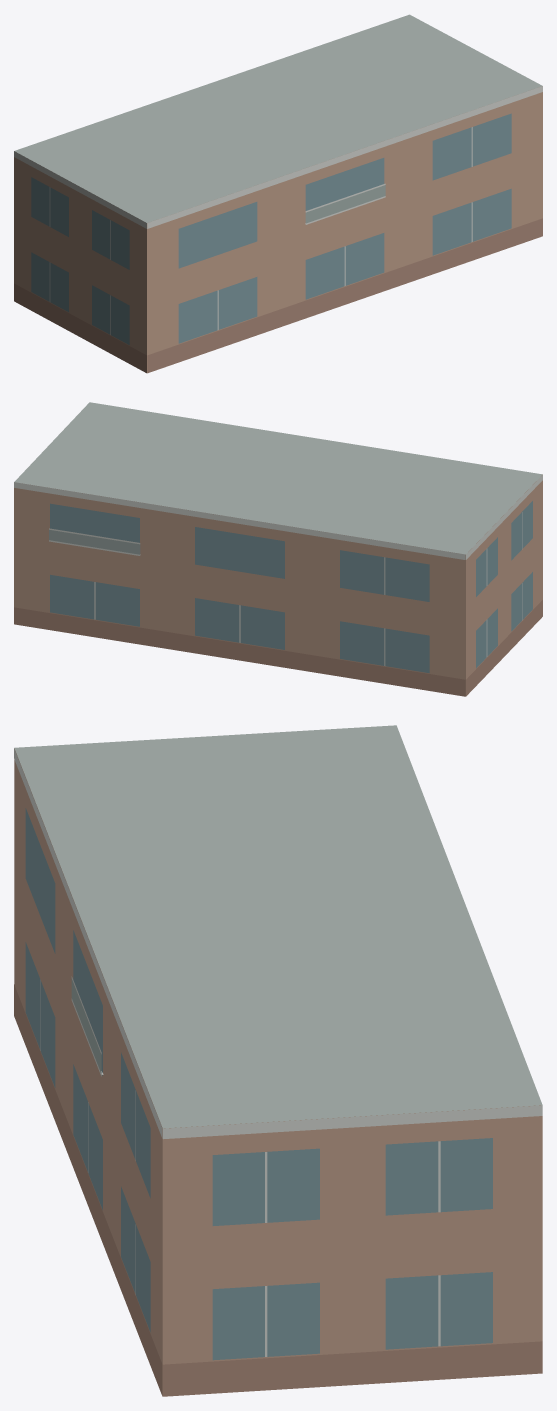
The model's file is survey-upis-32638684.glb.
The picture shows the model from 3 angles, top to bottom: view 1: azimuth 30°, elevation 25°; view 2: azimuth 150°, elevation 25°; view 3: azimuth 270°, elevation 25°; orthographic projection. The views are drawn at different scales.
Visible parts, largest first — view 1: survey-upis-32638684.tmp; view 2: survey-upis-32638684.tmp; view 3: survey-upis-32638684.tmp.
Part boxes in pixels (x1,y1,x2,y2): survey-upis-32638684.tmp: [14, 14, 542, 373]; survey-upis-32638684.tmp: [14, 402, 542, 696]; survey-upis-32638684.tmp: [14, 725, 542, 1396].
Bounding box in the file's own units: 19.69 × 6.1 × 10.91.
